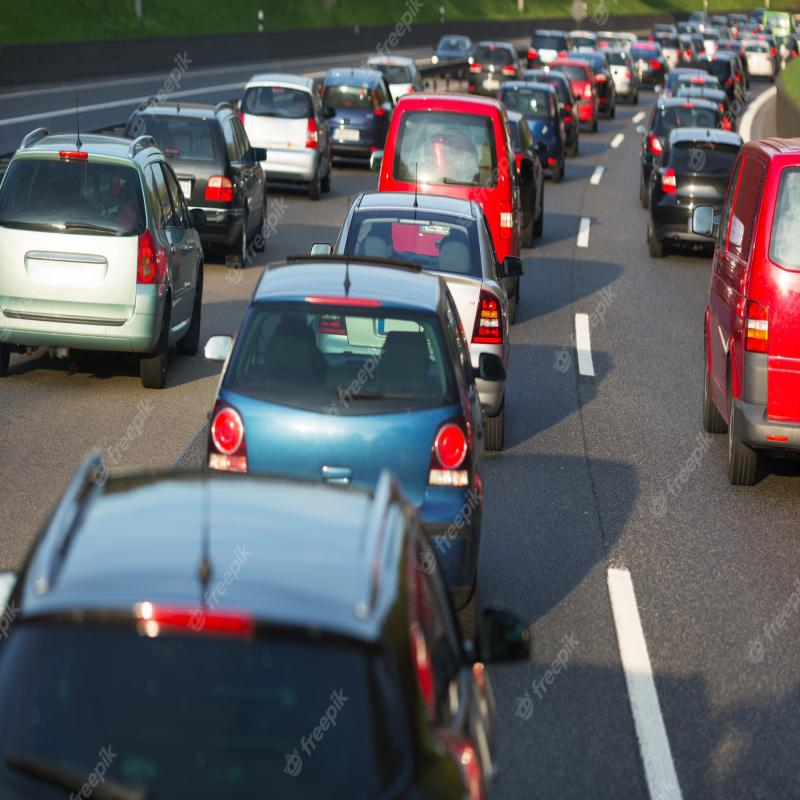car: (0, 480, 482, 800), (211, 248, 468, 623), (3, 112, 190, 386), (328, 174, 506, 423), (688, 111, 800, 477), (390, 76, 549, 266), (135, 80, 249, 226), (230, 48, 328, 213), (650, 122, 745, 237), (318, 52, 396, 173)
